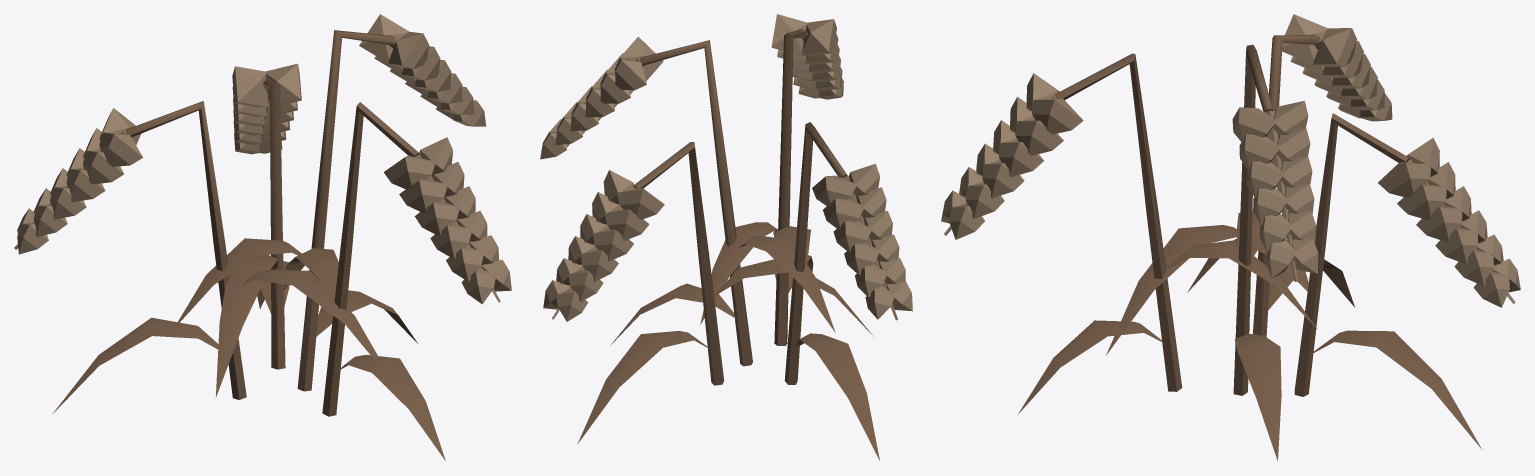
The model's file is crop_barley_withered.glb.
The picture shows the model from 3 angles, left to right: view 1: azimuth 30°, elevation 25°; view 2: azimuth 150°, elevation 25°; view 3: azimuth 270°, elevation 25°; orthographic projection. The views are drawn at different scales.
Parts seen in each view (by area): view 1: barley_leaf_0_0, barley_head_0_grain; view 2: barley_leaf_0_0, barley_head_0_grain; view 3: barley_head_0_grain, barley_leaf_0_0.
Part boxes in pixels (left/top/right/bottom): barley_leaf_0_0: left=52, top=30, right=445, bottom=460; barley_head_0_grain: left=14, top=14, right=511, bottom=304; barley_leaf_0_0: left=577, top=29, right=879, bottom=460; barley_head_0_grain: left=540, top=14, right=912, bottom=321; barley_head_0_grain: left=941, top=14, right=1520, bottom=307; barley_leaf_0_0: left=1018, top=34, right=1482, bottom=461.
Size of the model in its own units: 0.7997 by 0.6526 by 0.8825.
